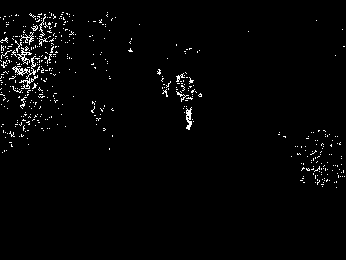person: (174, 68, 202, 131)
